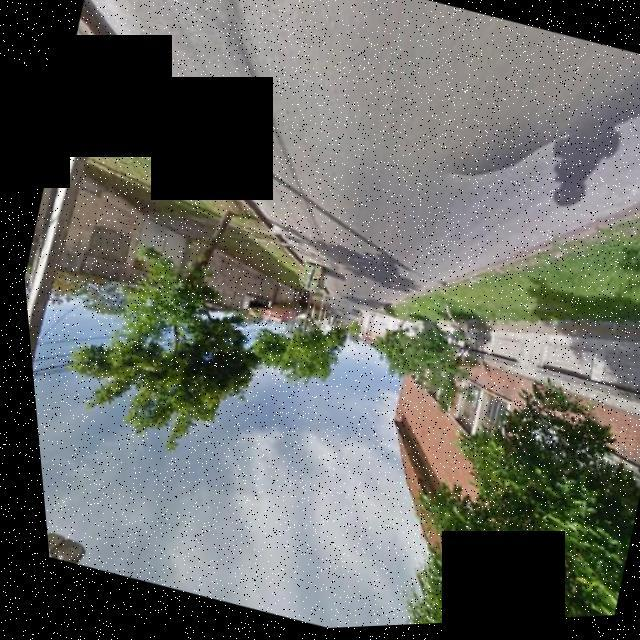bin: (282, 256, 330, 303)
